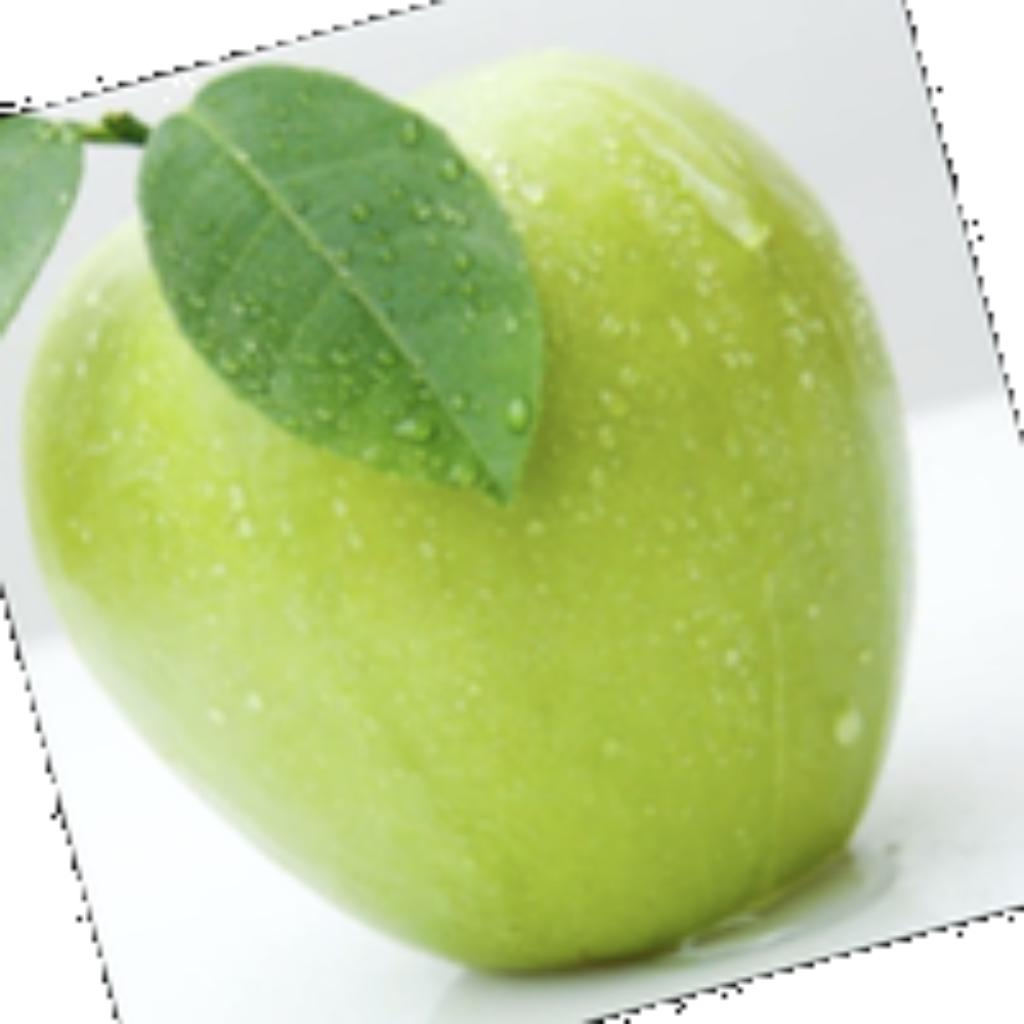apple: (0, 36, 1019, 1019)
